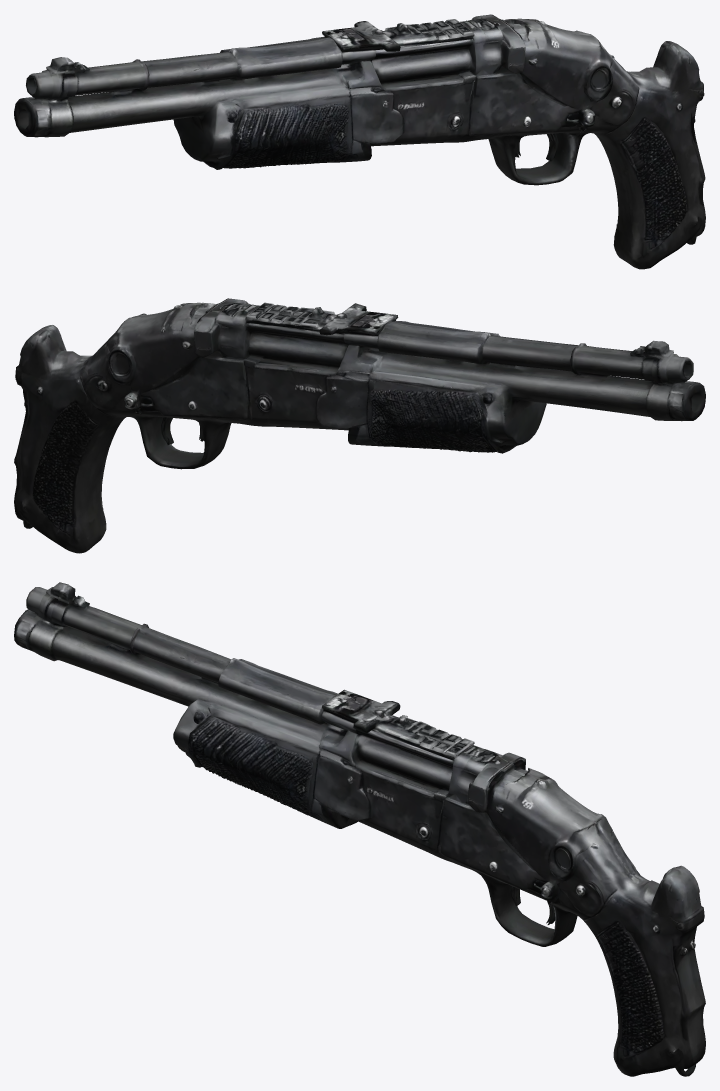
File: rn_autoloader.glb
3 views of the same model, one above another, from view 1: azimuth 30°, elevation 25°; view 2: azimuth 150°, elevation 25°; view 3: azimuth 330°, elevation 25° (orthographic).
Visible parts, largest first — view 1: tripo_node_70a04a98-a6c0-4497-84f8-8105f5f2c4a2; view 2: tripo_node_70a04a98-a6c0-4497-84f8-8105f5f2c4a2; view 3: tripo_node_70a04a98-a6c0-4497-84f8-8105f5f2c4a2.
Boxes of the visible parts, x1,y1,x2,y2 form: tripo_node_70a04a98-a6c0-4497-84f8-8105f5f2c4a2: [14, 14, 705, 269]; tripo_node_70a04a98-a6c0-4497-84f8-8105f5f2c4a2: [14, 298, 705, 553]; tripo_node_70a04a98-a6c0-4497-84f8-8105f5f2c4a2: [14, 582, 705, 1076].
Size of the model in its own units: 0.9822 by 0.4789 by 0.1224.
1 material, 1 textured.
